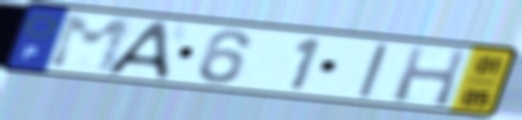1: (287, 36, 325, 92)
6: (195, 28, 253, 85)
A: (103, 20, 175, 81)
H: (389, 44, 471, 110)
I: (354, 41, 393, 100)
M: (46, 13, 136, 76)
